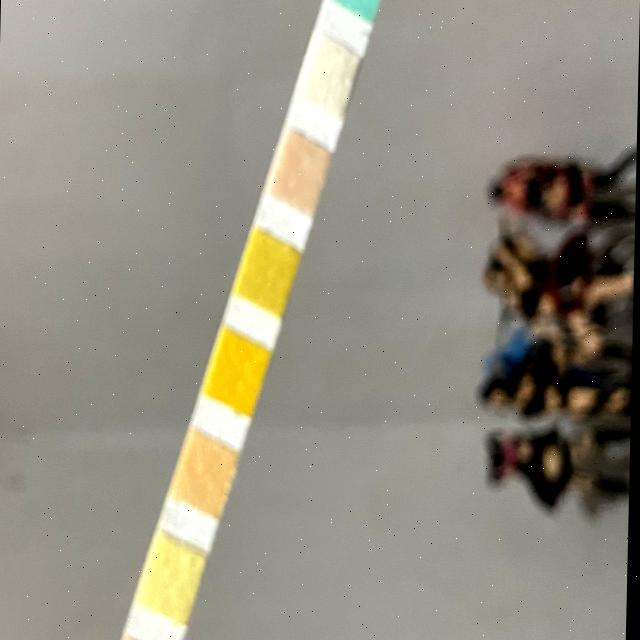Bilirubin: (307, 53, 350, 103)
Blood: (218, 345, 256, 403)
Ketone: (283, 147, 321, 198)
Protein: (153, 552, 196, 608)
SpGravity: (249, 249, 289, 297)
pH: (186, 444, 227, 501)
